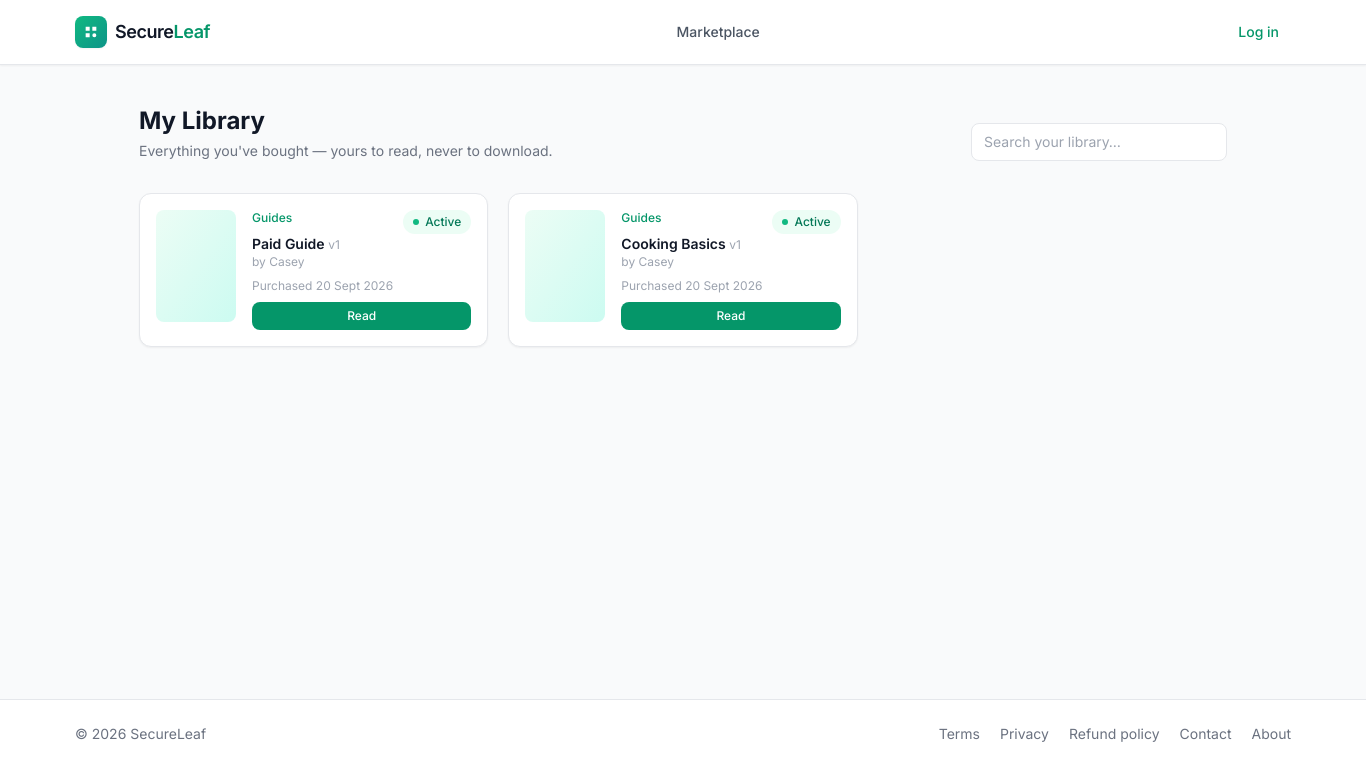
LibraryPage › filters the library by title as the buyer types
Expected: the heading "Paid Guide v1" is shown, [252, 235, 340, 252]
Expected: the heading "Cooking Basics v1" is shown, [621, 235, 741, 252]
Type "cooking" into the search field with placeholder "Search your library…" at (1099, 142), box [971, 123, 1227, 161]
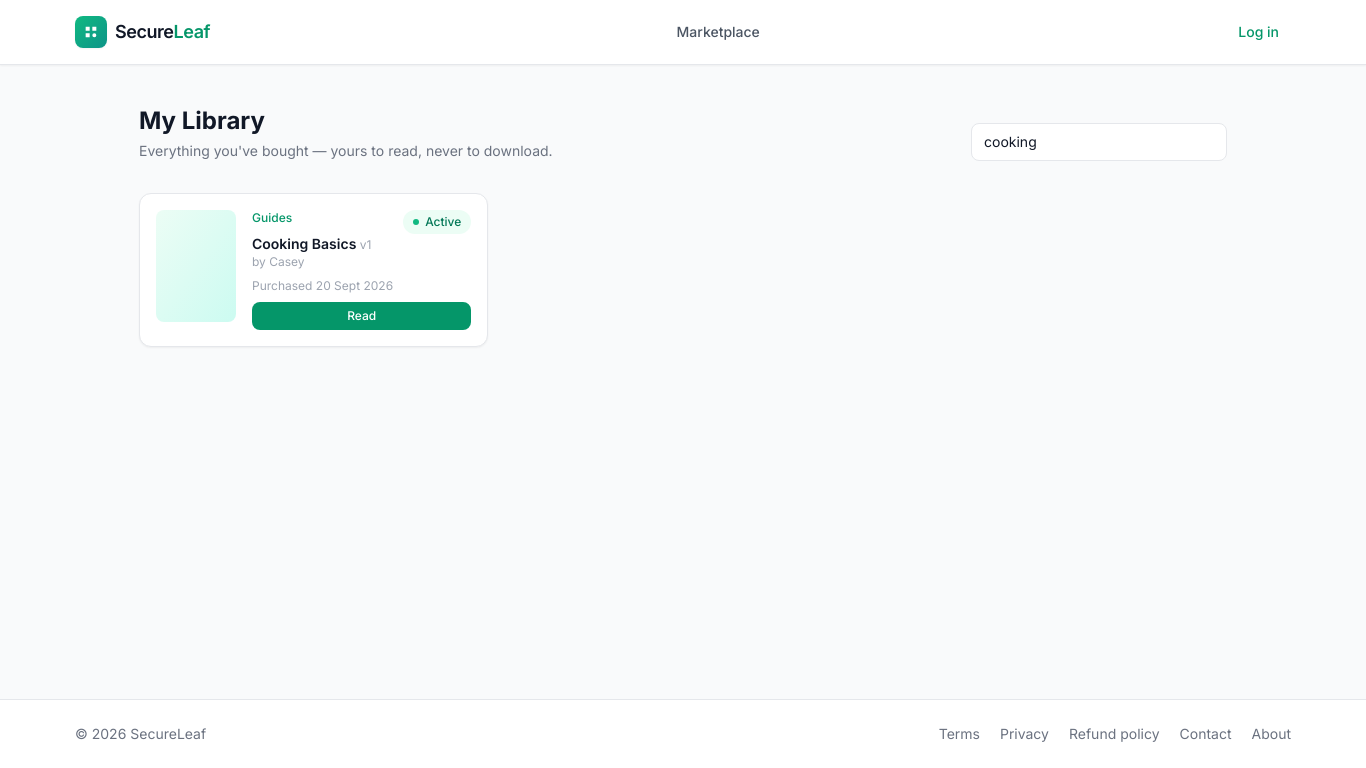
Expected: the heading "Cooking Basics v1" is shown, [252, 235, 372, 252]
Expected: the heading "Paid Guide" is gone
